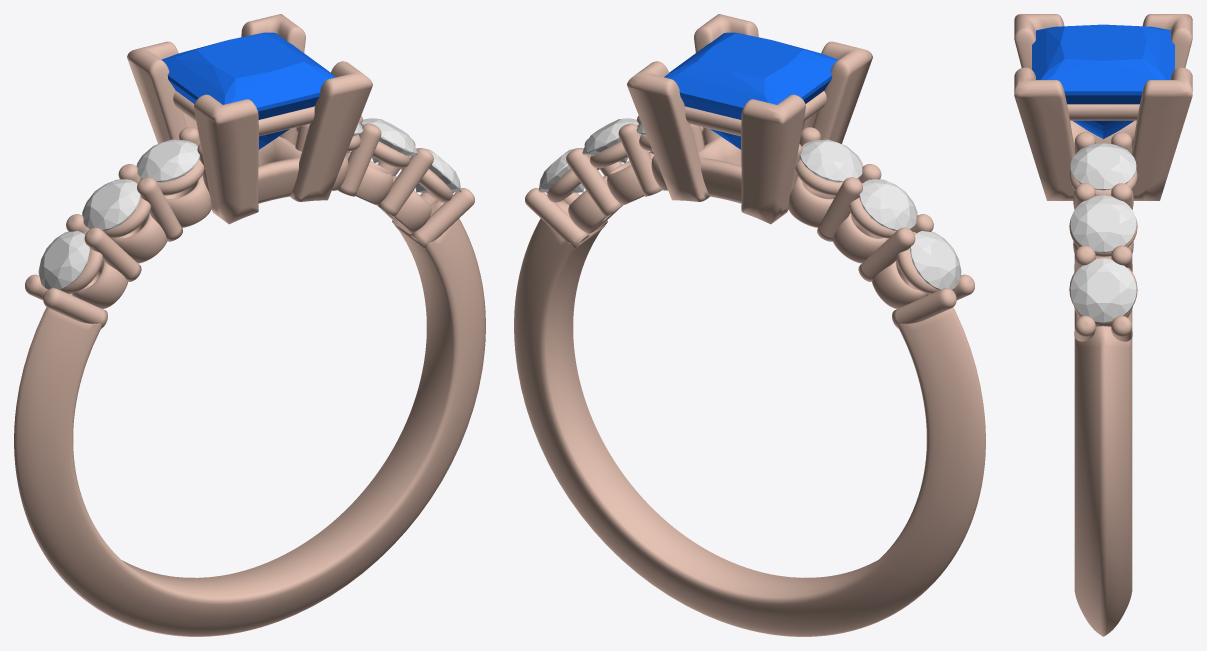
File: bluesapphire-princess-rosegold-protectededges4prongs-knifeedge-7stone.glb
3 renders of one model, left to right at view 1: azimuth 30°, elevation 25°; view 2: azimuth 150°, elevation 25°; view 3: azimuth 270°, elevation 25°, orthographic.
Visible parts, largest first — view 1: metal, stone, side, side.001, side.002, side.004, side.005; view 2: metal, stone, side, side.001, side.002, side.004, side.005; view 3: metal, stone, side.005, side.004, side.003.
Part boxes in pixels (<box>): metal: <box>14,14,485,636</box>; stone: <box>161,32,335,149</box>; side: <box>38,231,89,289</box>; side.001: <box>82,179,140,230</box>; side.002: <box>136,139,199,182</box>; side.004: <box>361,118,417,162</box>; side.005: <box>415,148,461,192</box>; metal: <box>514,14,985,636</box>; stone: <box>664,32,838,149</box>; side: <box>910,231,961,289</box>; side.001: <box>859,179,917,230</box>; side.002: <box>800,139,863,182</box>; side.004: <box>582,118,638,162</box>; side.005: <box>538,148,584,192</box>; metal: <box>1014,14,1192,636</box>; stone: <box>1032,24,1174,138</box>; side.005: <box>1070,258,1136,322</box>; side.004: <box>1070,195,1136,252</box>; side.003: <box>1070,143,1136,190</box>.
Bounding box in the file's own units: 20.5 × 23.85 × 6.77.
